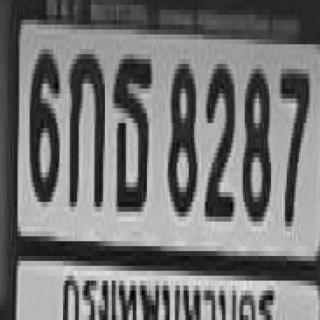A01: (68, 53, 103, 206)
A24: (112, 53, 151, 211)
N02: (204, 61, 234, 219)
N06: (28, 44, 58, 197)
N07: (278, 63, 310, 224)
N08: (167, 61, 197, 214), (242, 65, 271, 221)
